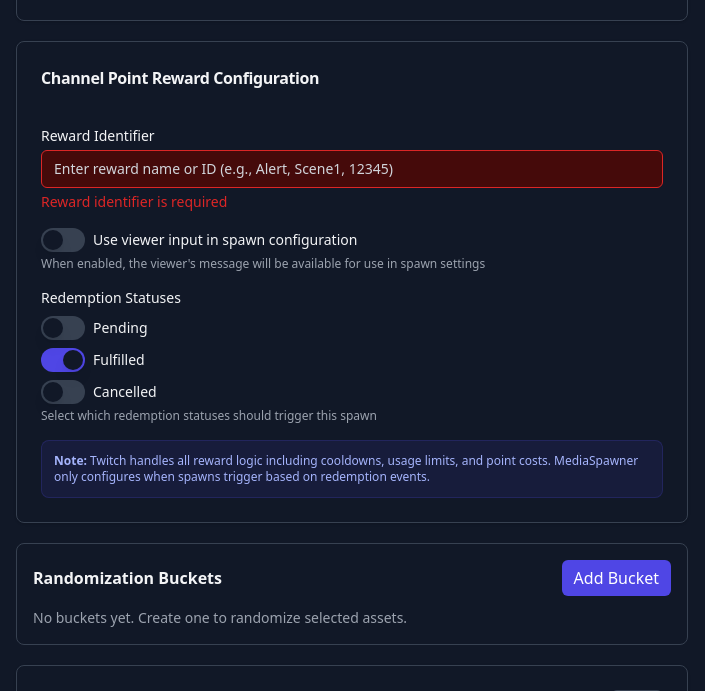
it: SpawnEditorWorkspace - MS-53 Channel Point Reward Configuration › 5. Redemption Status Configuration › shows error when no redemption statuses are selected
(page scrolled)
Check: the heading "Channel Point Reward Configuration" is shown, box [41, 67, 319, 89]
// Deselect the only selected status
What coordinates should you click on to do the following:
click the switch named "fulfilled"
I would click on:
 (63, 360)
Its box is [41, 348, 85, 372].
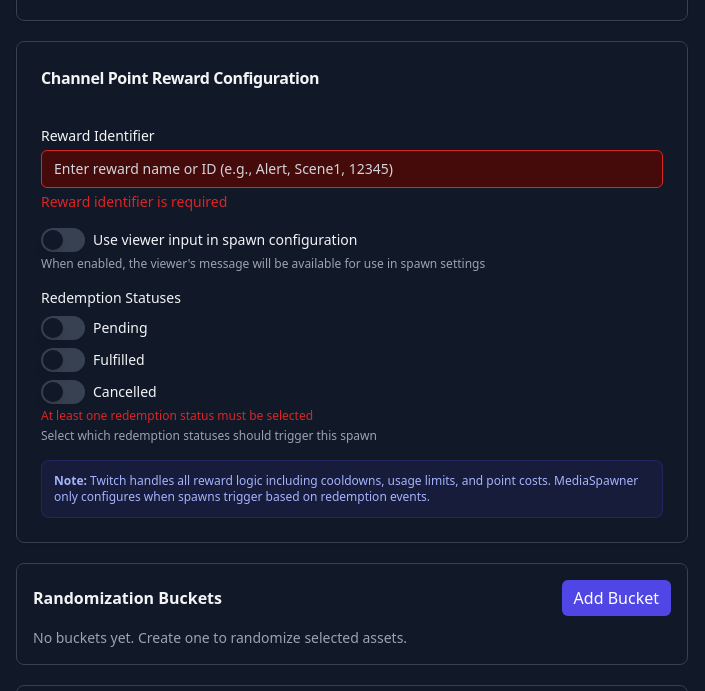
Check: the text "At least one redemption status must be selected" is shown, box [41, 407, 313, 424]
